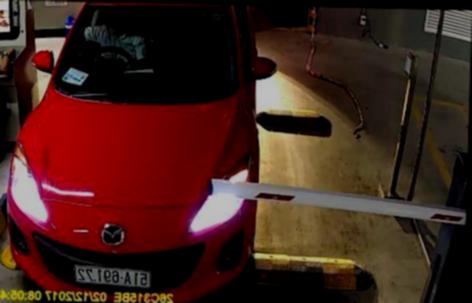License_Plate: (75, 262, 154, 285)
